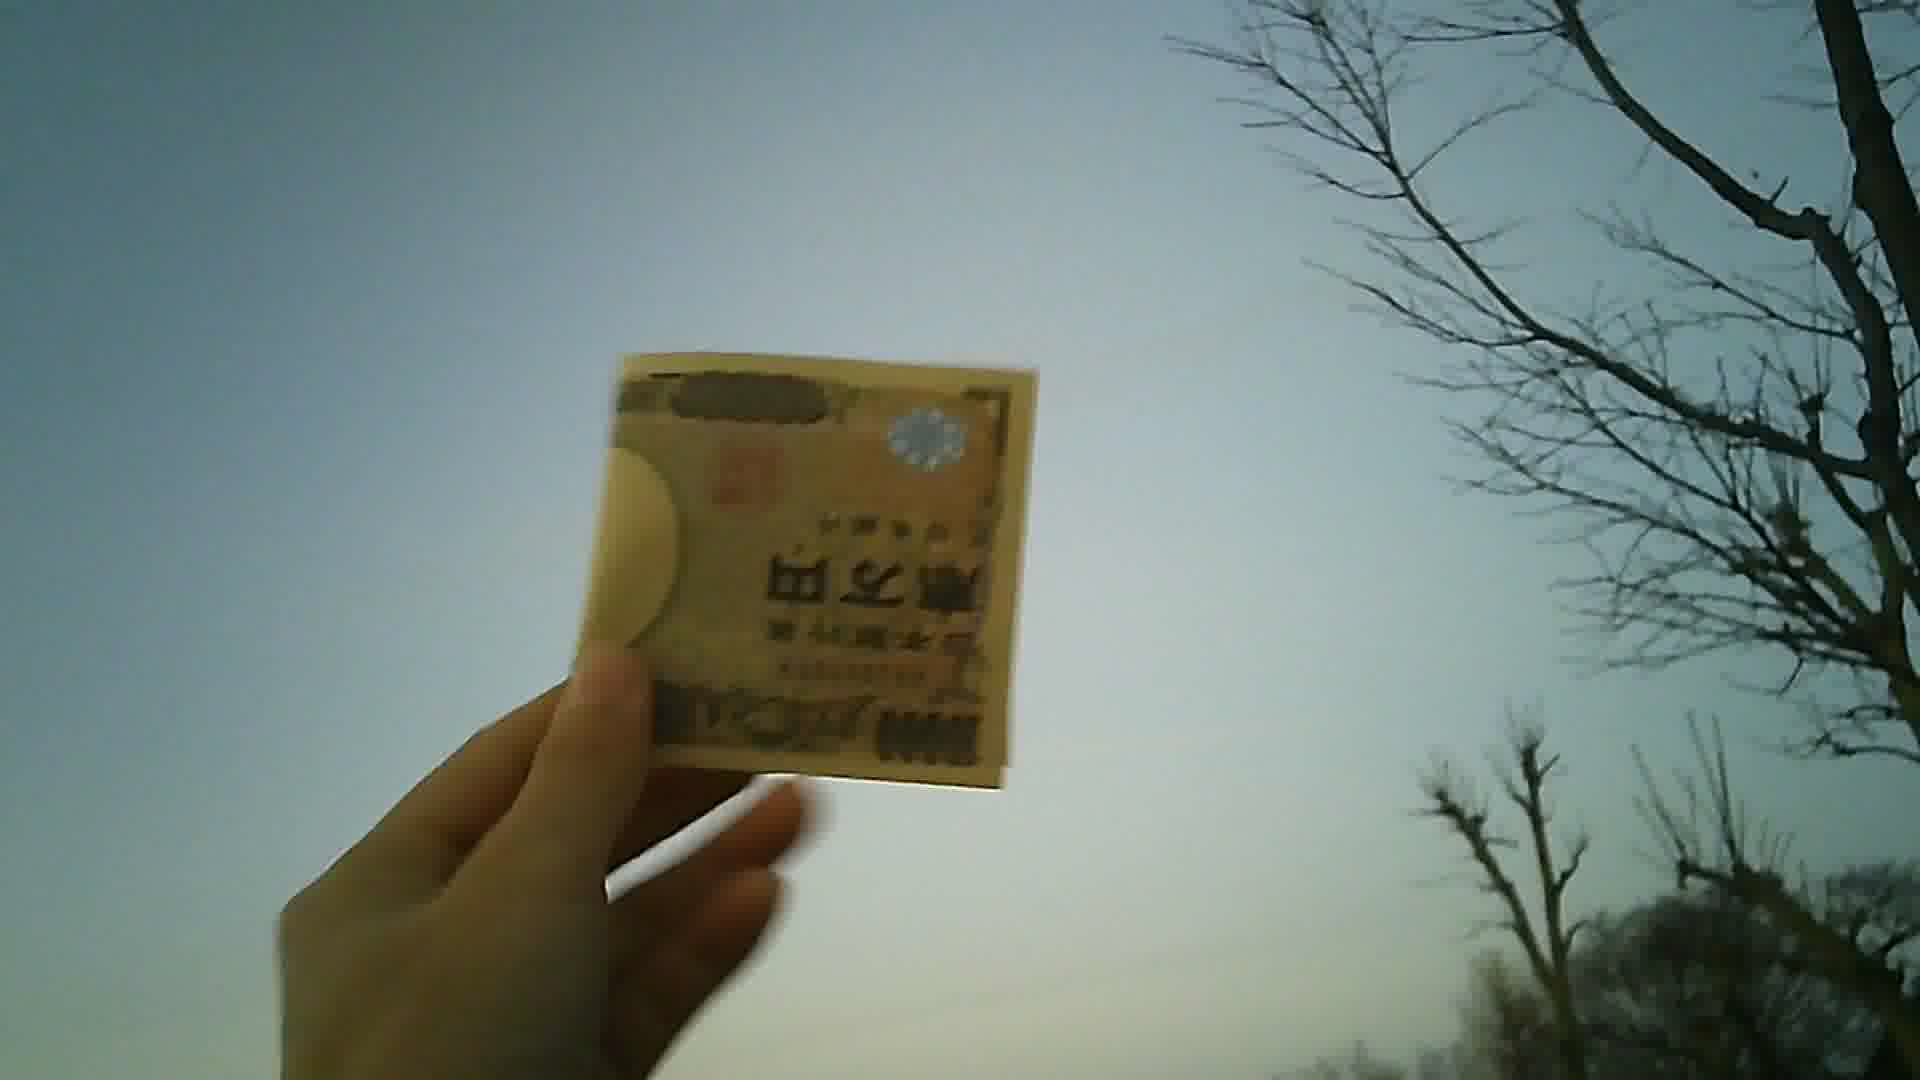10,000 Yen: (559, 332, 1089, 808)
